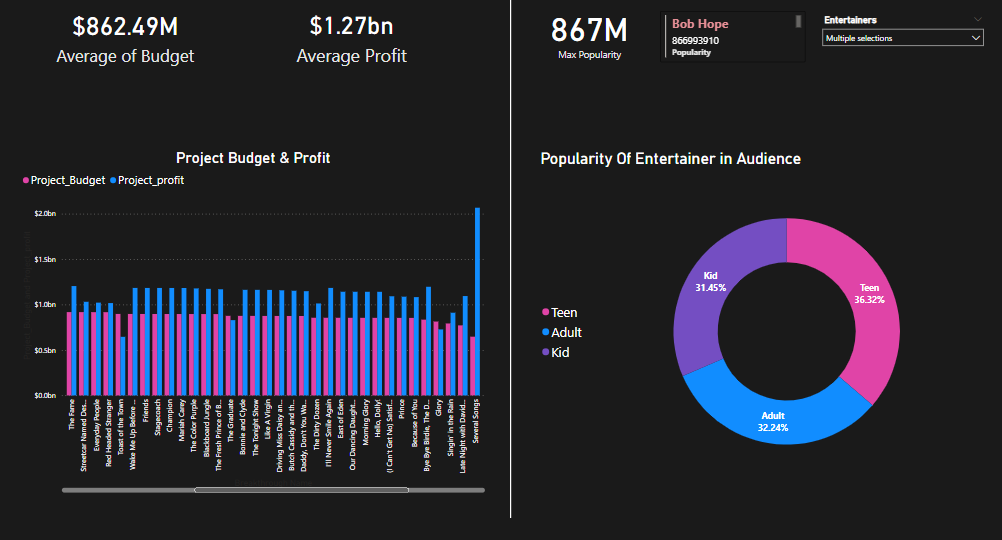

What the dashboard file says about the page in this screenshot:
{"tool":"powerbi","page":{"name":"Page 1","canvas":[1700,1000],"ordinal":0},"visuals":[{"type":"lineClusteredColumnComboChart","title":"Project Budget & Profit","fields":{"Category":["Pivot Table-1(Movies budget & Profit) (Pivot_1).Breakthrough Name"],"Y":["Pivot Table-1(Movies budget & Profit) (Pivot_1).Project_Budget","Pivot Table-1(Movies budget & Profit) (Pivot_1).Project_profit"]},"box":[47.5,325,782.5,577.5],"z":0},{"type":"card","title":"Average Budget","fields":{"Values":["Pivot Table-1(Movies budget & Profit) (Pivot_1).Project_Budget"]},"box":[50,50,350,167.5],"z":1000},{"type":"card","title":"Average Budget","fields":{"Values":["Pivot Table-1(Movies budget & Profit) (Pivot_1).Project_profit"]},"box":[440,50,325,167.5],"z":2000},{"type":"donutChart","title":"Popularity Of Entertainer in Audience","fields":{"Y":["Sheet4.Popularity"],"Category":["Sheet4.Audience"]},"box":[912.5,325,752.5,577.5],"z":3000},{"type":"actionButton","box":[0,0,100,40],"z":4000},{"type":"slicer","fields":{"Values":["Sheet4.Entertainer"]},"box":[1376.7,96.1,288.3,85],"z":5000},{"type":"card","fields":{"Values":["Sheet4.Popularity"]},"box":[895,73.6,207.5,113.8],"z":6000},{"type":"multiRowCard","fields":{"Values":["Sheet4.Entertainer","Sheet4.Popularity"]},"box":[1116.2,96.1,241.2,85],"z":7000},{"type":"shape","box":[840,60,55,880],"z":8000}]}

Visuals, with their boxes on the page's 1700x1000 design canvas (x1, y1, x2, y2). These are canvas units, not pixel positions in the 1002x540 screenshot, which may show the page scaled, cropped or inside an application window:
"Project Budget & Profit" lineClusteredColumnComboChart: x1=48 y1=325 x2=830 y2=902
"Average Budget" card: x1=50 y1=50 x2=400 y2=218
"Average Budget" card: x1=440 y1=50 x2=765 y2=218
"Popularity Of Entertainer in Audience" donutChart: x1=912 y1=325 x2=1665 y2=902
actionButton: x1=0 y1=0 x2=100 y2=40
slicer - Sheet4.Entertainer: x1=1377 y1=96 x2=1665 y2=181
card - Sheet4.Popularity: x1=895 y1=74 x2=1102 y2=187
multiRowCard - Sheet4.Entertainer x Sheet4.Popularity: x1=1116 y1=96 x2=1357 y2=181
shape: x1=840 y1=60 x2=895 y2=940
